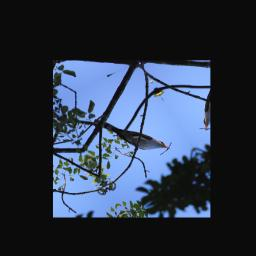Cuckoo: (102, 103, 172, 169)
